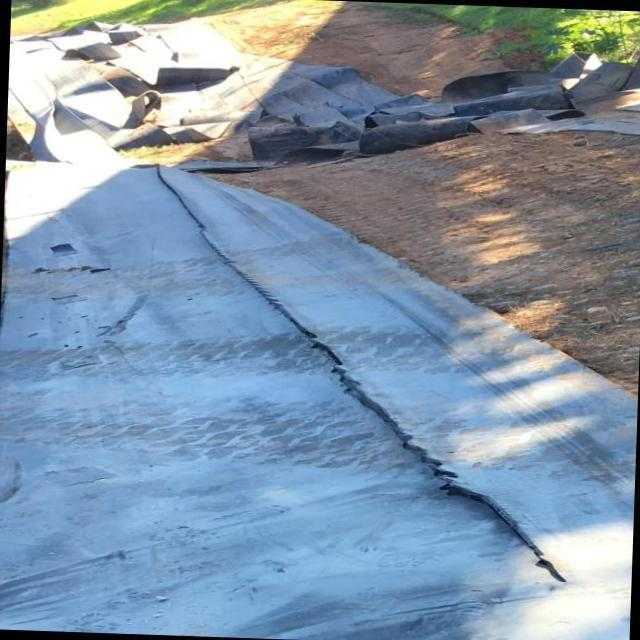Tear: (145, 161, 574, 588)
